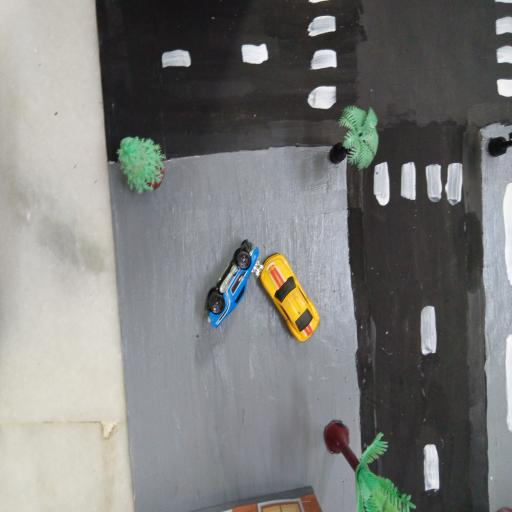car crash: (204, 235, 326, 351), (202, 240, 260, 333)
